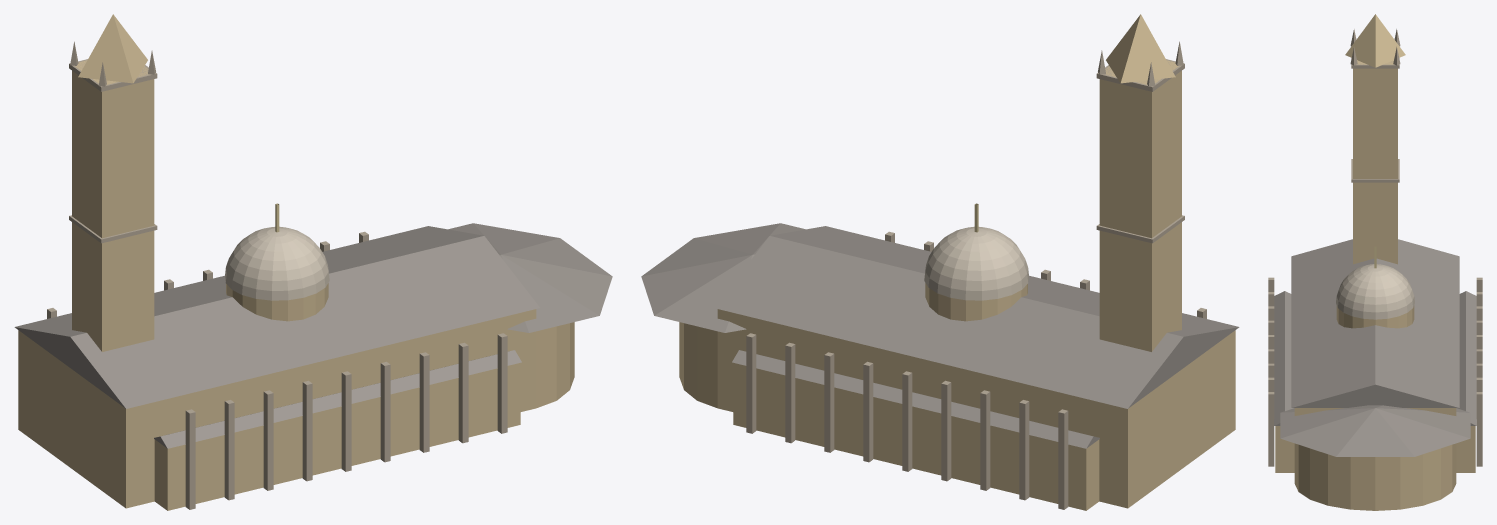
File: catedralsalamanca.glb
The picture shows the model from 3 angles, left to right: view 1: azimuth 30°, elevation 25°; view 2: azimuth 150°, elevation 25°; view 3: azimuth 270°, elevation 25°; orthographic projection. The views are drawn at different scales.
Bounding box in the file's own units: 138 × 114 × 66.2.
